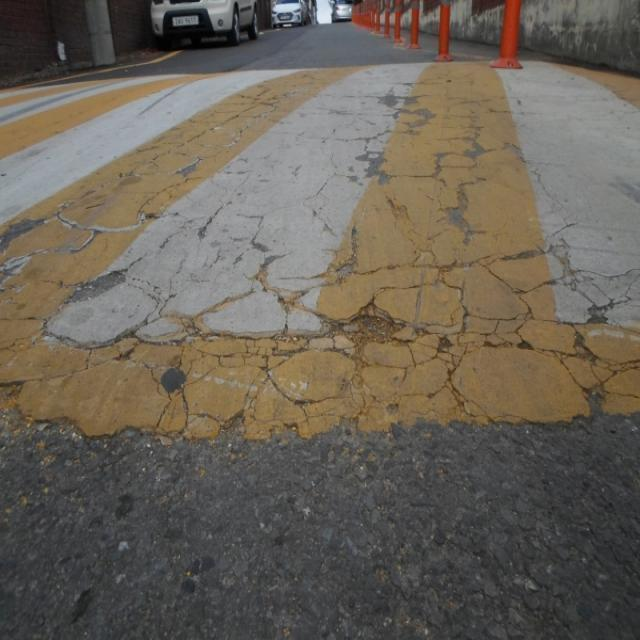speedbreaker: (0, 59, 640, 422)
